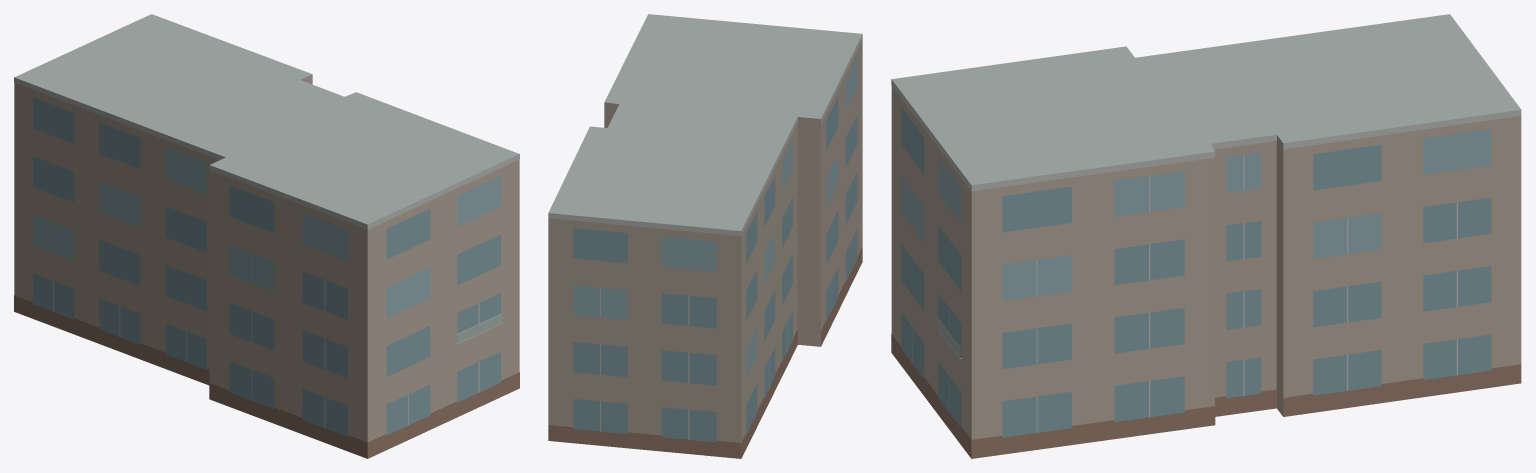
Rendered from survey-upis-32618724.glb.
3 views of the same model, side by side, from view 1: azimuth 30°, elevation 25°; view 2: azimuth 150°, elevation 25°; view 3: azimuth 270°, elevation 25° (orthographic). The views are drawn at different scales.
Parts seen in each view (by area): view 1: survey-upis-32618724.tmp; view 2: survey-upis-32618724.tmp; view 3: survey-upis-32618724.tmp.
Part boxes in pixels (x1,y1,x2,y2): survey-upis-32618724.tmp: [14, 14, 519, 458]; survey-upis-32618724.tmp: [548, 14, 862, 458]; survey-upis-32618724.tmp: [891, 14, 1521, 458].
Bounding box in the file's own units: 14.67 × 10.92 × 22.8.
